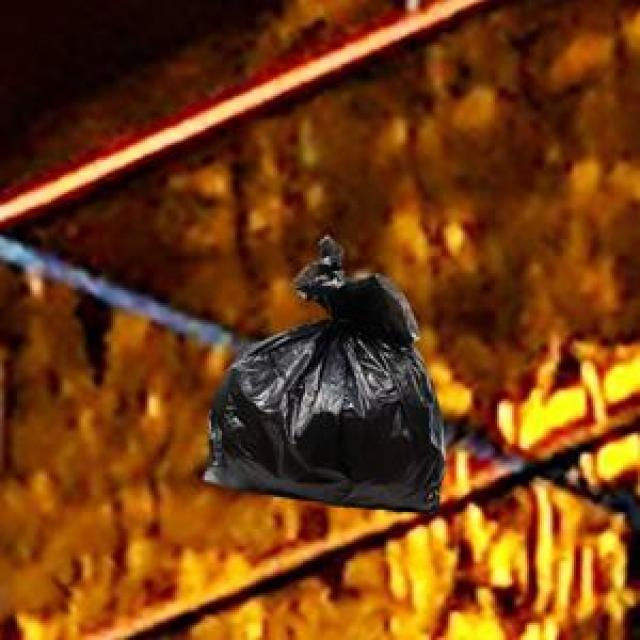miscellaneous trash: (201, 233, 442, 510)
